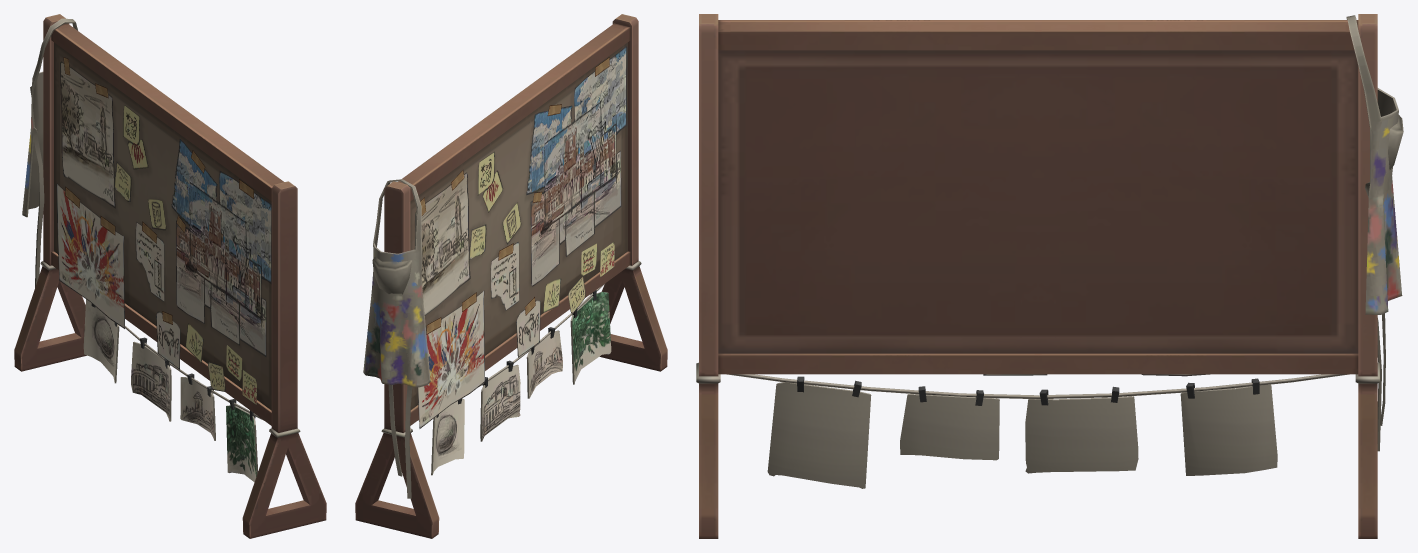
File: my_wildhunt_01_board_01.glb
3 views of the same model, side by side, from view 1: azimuth 30°, elevation 25°; view 2: azimuth 150°, elevation 25°; view 3: azimuth 270°, elevation 25° (orthographic). The views are drawn at different scales.
Parts seen in each view (by area): view 1: my_wildhunt_01_board_01; view 2: my_wildhunt_01_board_01; view 3: my_wildhunt_01_board_01.
Part boxes in pixels (box(x1,y1,x2,y2)): my_wildhunt_01_board_01: box(14, 14, 326, 538); my_wildhunt_01_board_01: box(355, 14, 667, 538); my_wildhunt_01_board_01: box(696, 14, 1403, 538).
Size of the model in its own units: 0.00319 by 0.0136 by 0.0175.
1 material, 1 textured.
